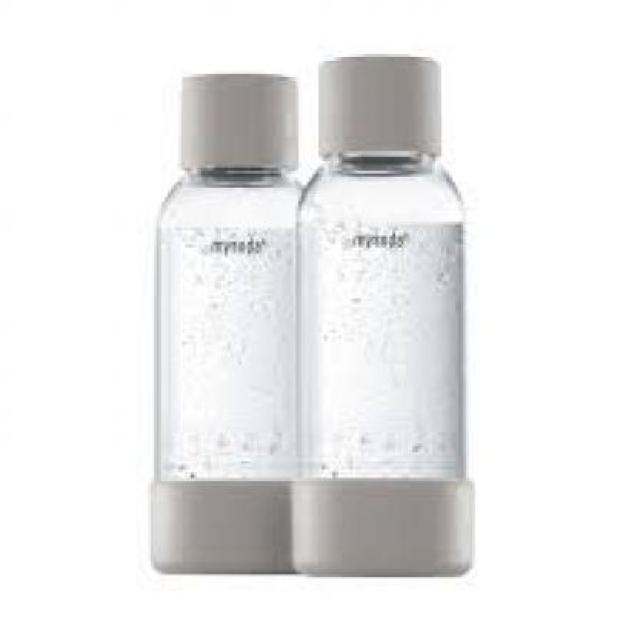Drinking: (302, 40, 483, 589), (144, 60, 298, 586)
